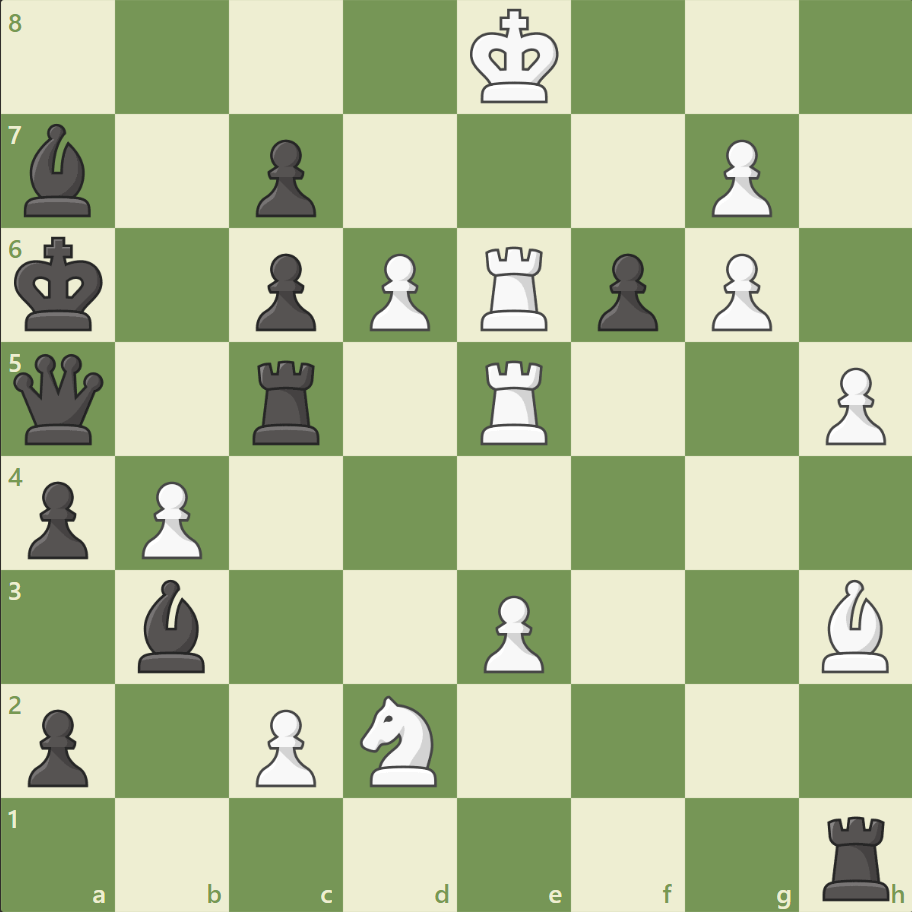B: (812, 574, 896, 676)
K: (465, 4, 565, 112)
N: (351, 688, 449, 791)
P: (701, 132, 776, 223), (701, 246, 776, 337), (133, 473, 208, 564), (474, 586, 549, 677), (247, 700, 322, 791), (361, 246, 435, 337), (815, 359, 889, 450)
R: (473, 239, 556, 336), (473, 352, 556, 449)
b: (17, 120, 101, 222), (131, 574, 215, 676)
k: (11, 231, 111, 339)
p: (247, 132, 322, 223), (247, 246, 322, 337), (20, 473, 95, 564), (20, 700, 95, 791), (588, 246, 662, 337)
q: (10, 349, 109, 449)
r: (814, 806, 897, 904), (246, 352, 329, 449)
